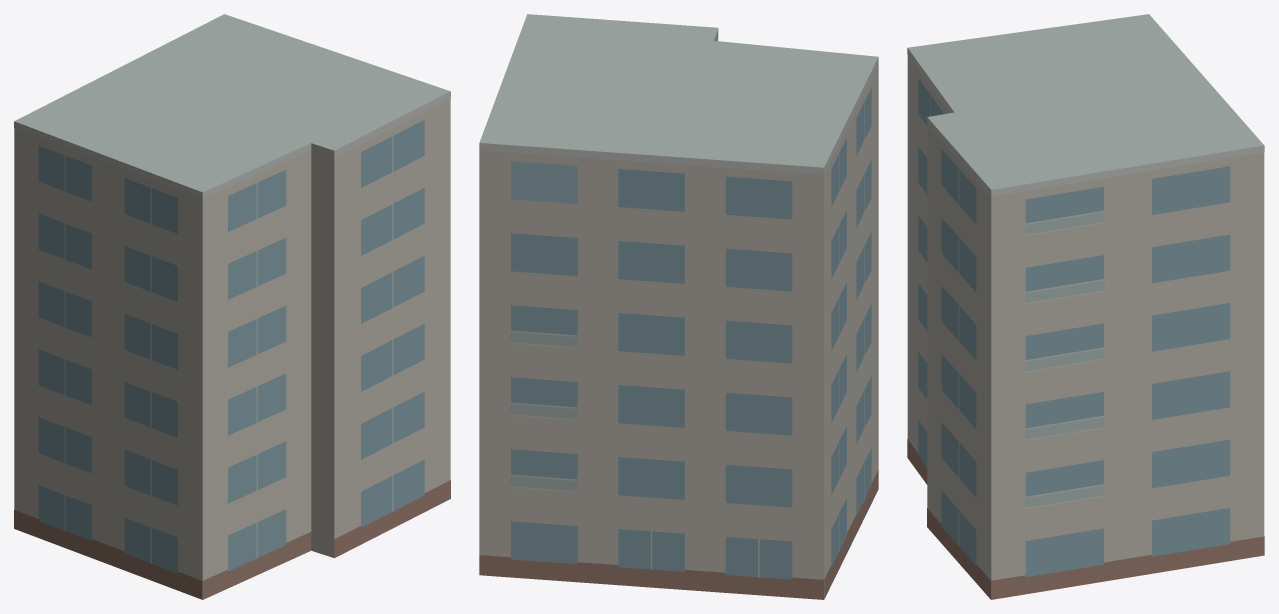
Rendered from survey-upis-32844781.glb.
3 views of the same model, side by side, from view 1: azimuth 30°, elevation 25°; view 2: azimuth 150°, elevation 25°; view 3: azimuth 270°, elevation 25° (orthographic). The views are drawn at different scales.
Parts seen in each view (by area): view 1: survey-upis-32844781.tmp; view 2: survey-upis-32844781.tmp; view 3: survey-upis-32844781.tmp.
Boxes of the visible parts, <box> form: survey-upis-32844781.tmp: <box>14,14,450,599</box>; survey-upis-32844781.tmp: <box>479,14,878,599</box>; survey-upis-32844781.tmp: <box>907,14,1264,599</box>.
Bounding box in the file's own units: 13.3 × 14.45 × 11.41.
